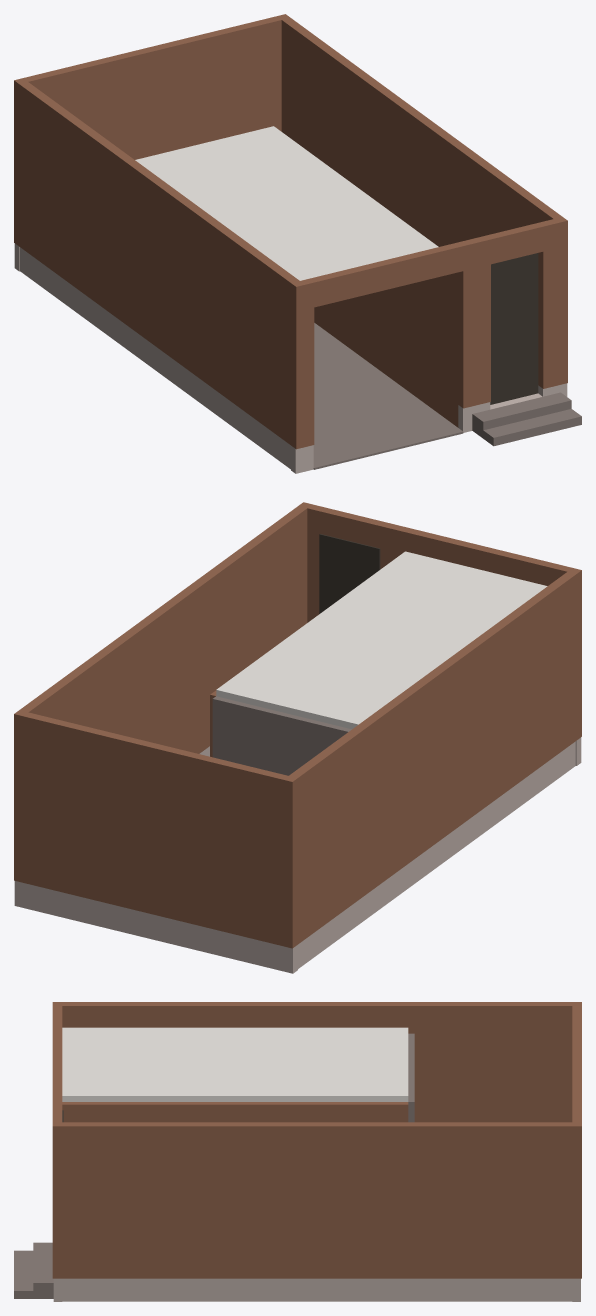
File: SM_Floor_NarrowGarage_455_01.gltf
3 renders of one model, top to bottom at view 1: azimuth 30°, elevation 25°; view 2: azimuth 150°, elevation 25°; view 3: azimuth 270°, elevation 25°, orthographic. The views are drawn at different scales.
Visible parts, largest first — view 1: SM_Floor_NarrowGarage_455_01; view 2: SM_Floor_NarrowGarage_455_01; view 3: SM_Floor_NarrowGarage_455_01.
Part boxes in pixels (left/top/right/bottom): SM_Floor_NarrowGarage_455_01: left=14, top=14, right=581, bottom=473; SM_Floor_NarrowGarage_455_01: left=14, top=502, right=581, bottom=973; SM_Floor_NarrowGarage_455_01: left=14, top=1002, right=581, bottom=1301.
Bounding box in the file's own units: 4.55 × 3 × 8.79.
1 material, 1 textured.
